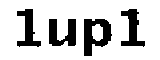1: (119, 5, 149, 53), (14, 5, 44, 50)
p: (81, 15, 115, 59)
u: (48, 15, 79, 52)
